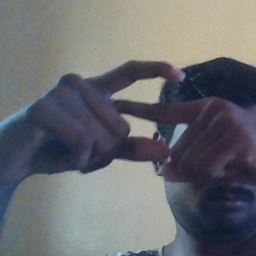E: (100, 59, 206, 175)
